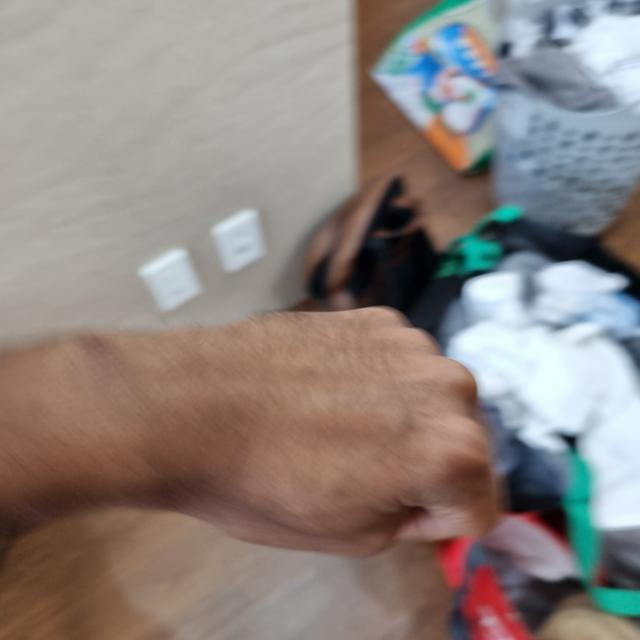Rock: (76, 311, 489, 552)
